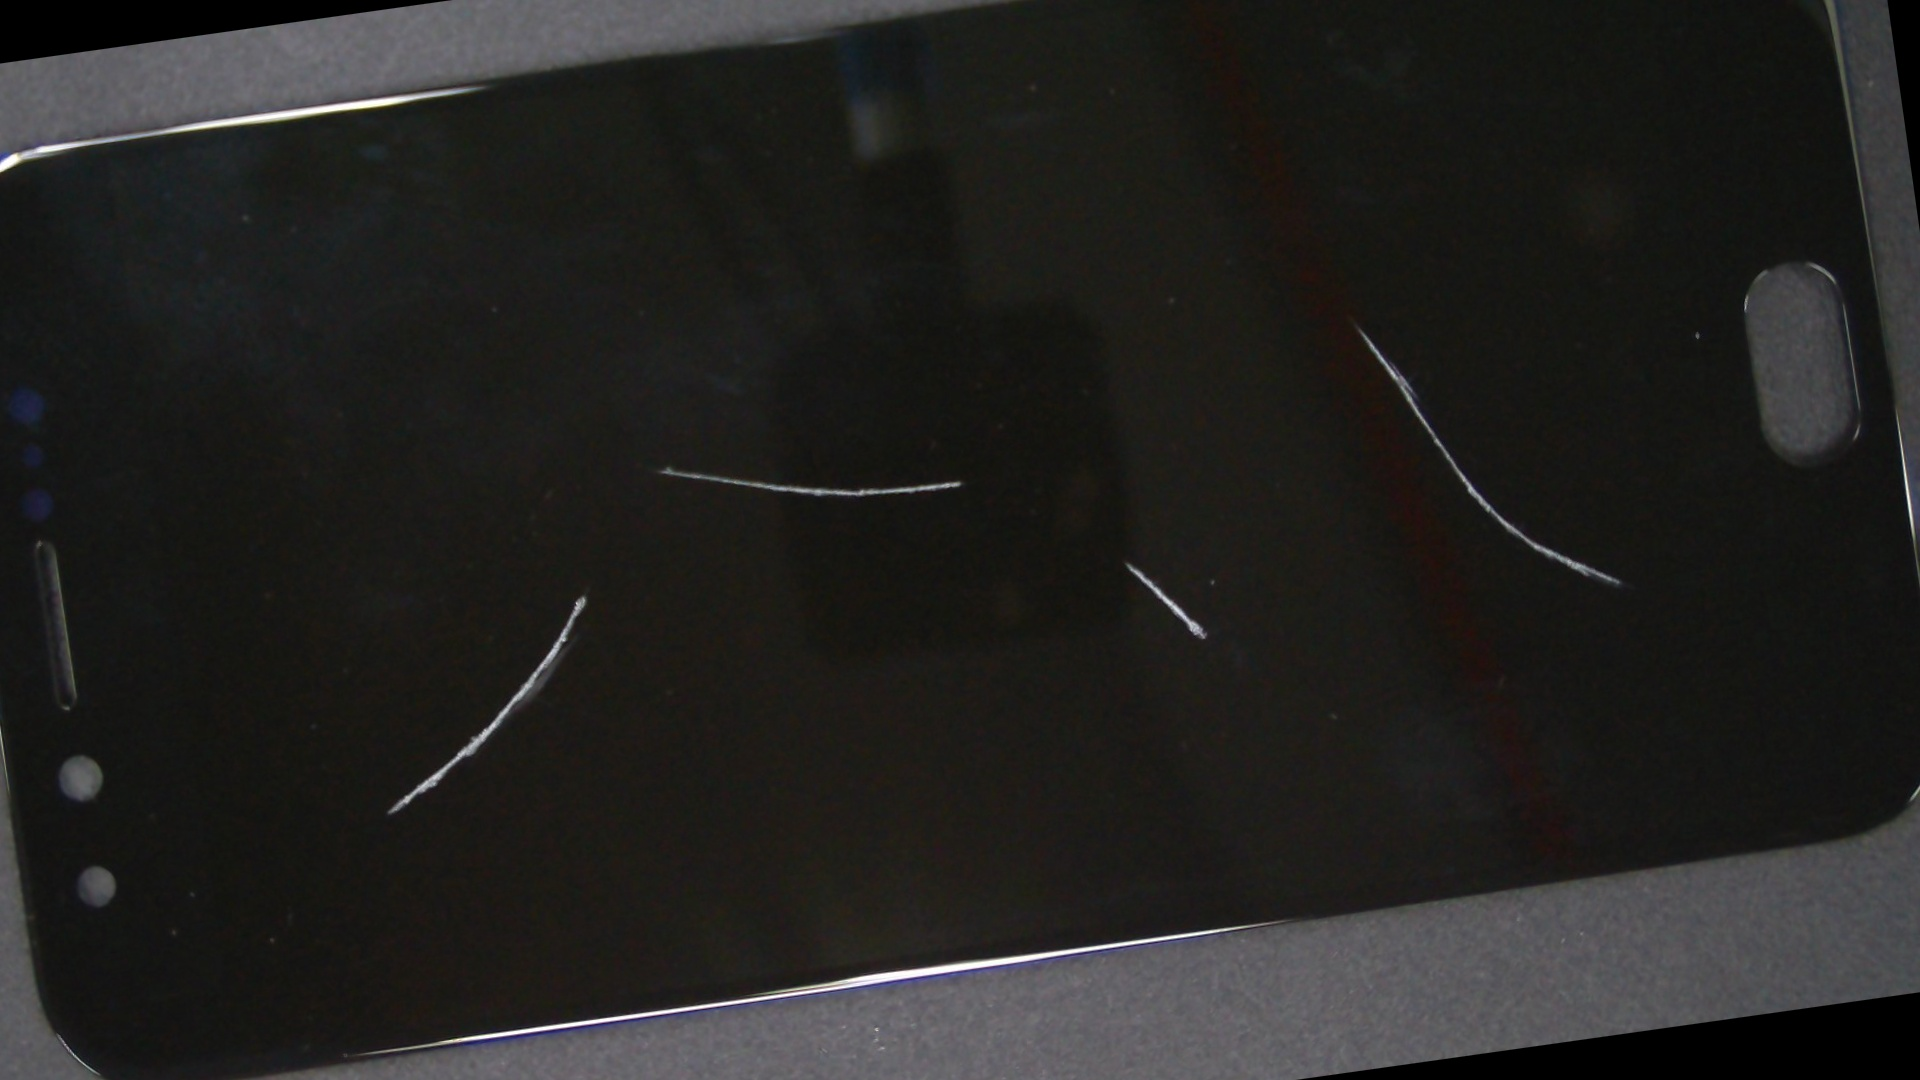oil: (489, 157, 1764, 969), (600, 21, 1920, 640), (218, 249, 949, 944), (260, 170, 1076, 764)
